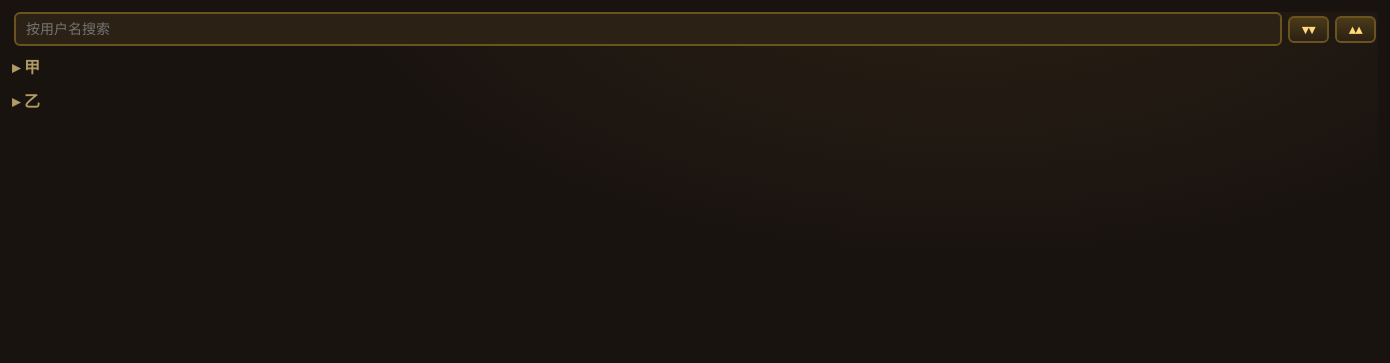
Test: 角色行波次标签 › 并行团：显示 第N波M团
The image size is (1390, 363).
Step 1. Click the button "▾▾" → (1308, 29), box [1288,16,1329,42]
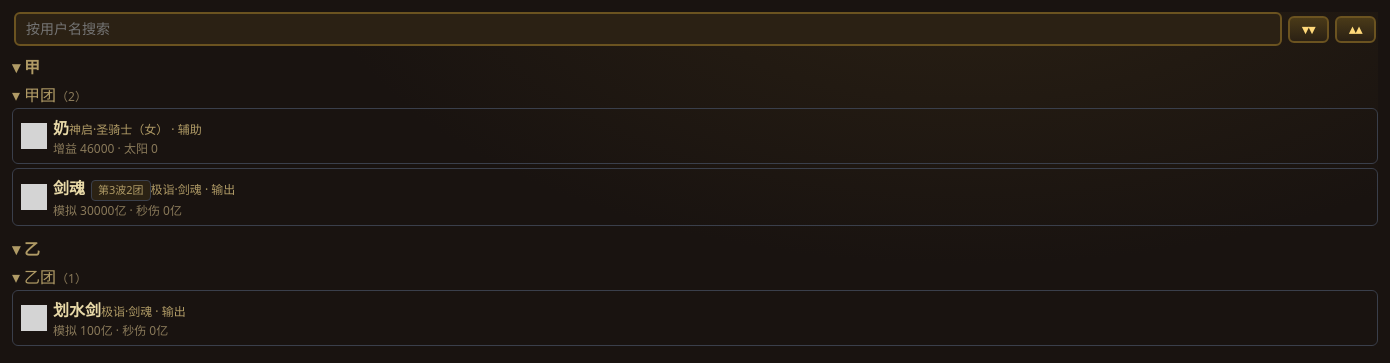
Expected: the element showing "剑魂 第3波2团 极诣·剑魂 · 输出 模拟 30000亿 · 秒伤 0亿" is shown, [12,168,1378,226]
